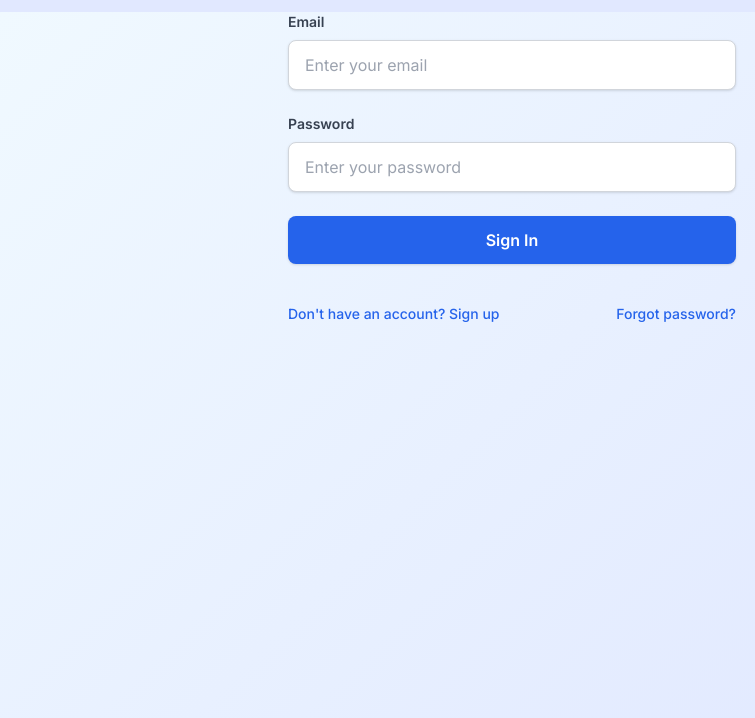
Test: SignInForm › shows error message when sign in fails
In the field labelled "Email": point(512, 65) [288,40,736,90], type "test@example.com"
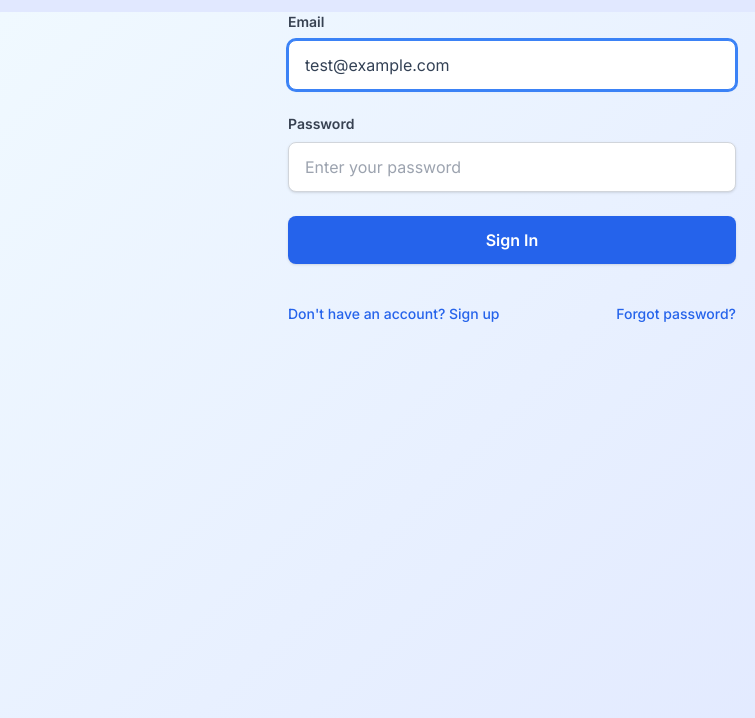
In the password field labelled "Password": point(512, 167) [288,142,736,192], type "wrongpassword"
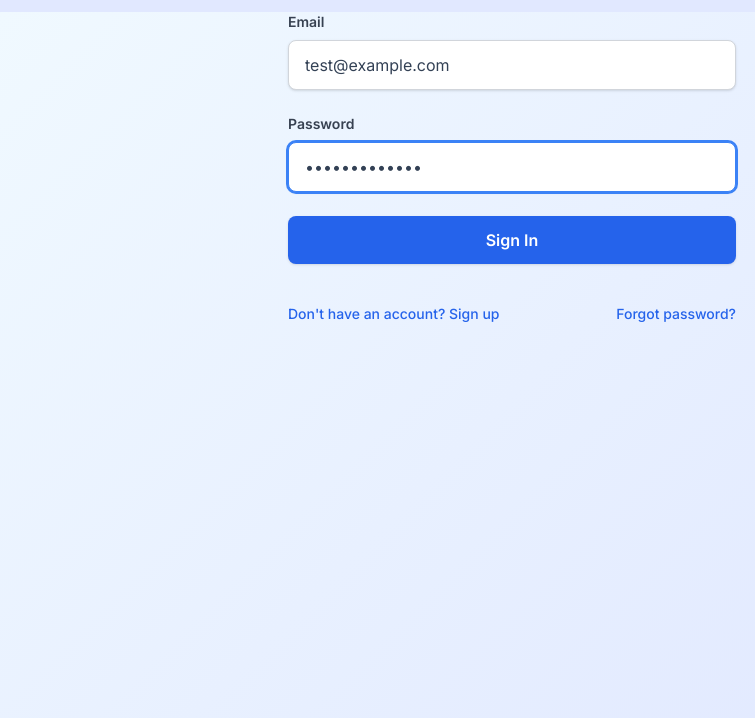
Click the button "Sign In": point(512, 240) [288,216,736,264]
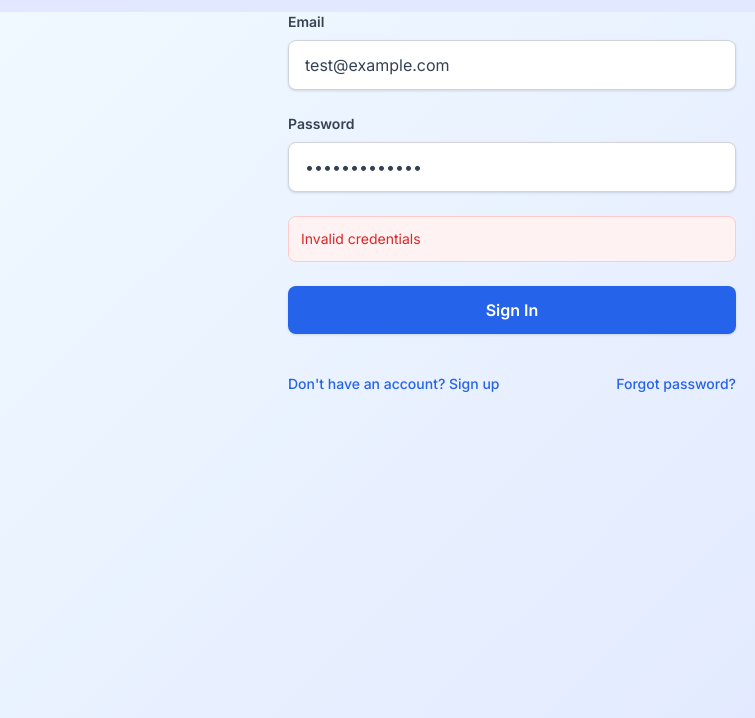
Expected: the text "Invalid credentials" is shown, [288,216,736,262]
